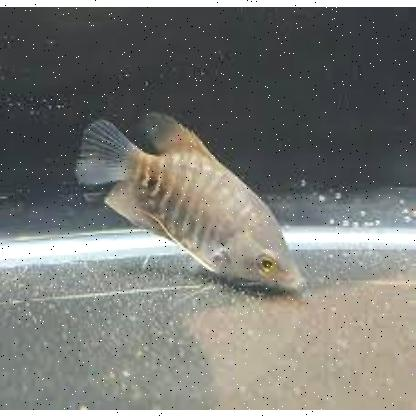gurame: (75, 106, 311, 292)
